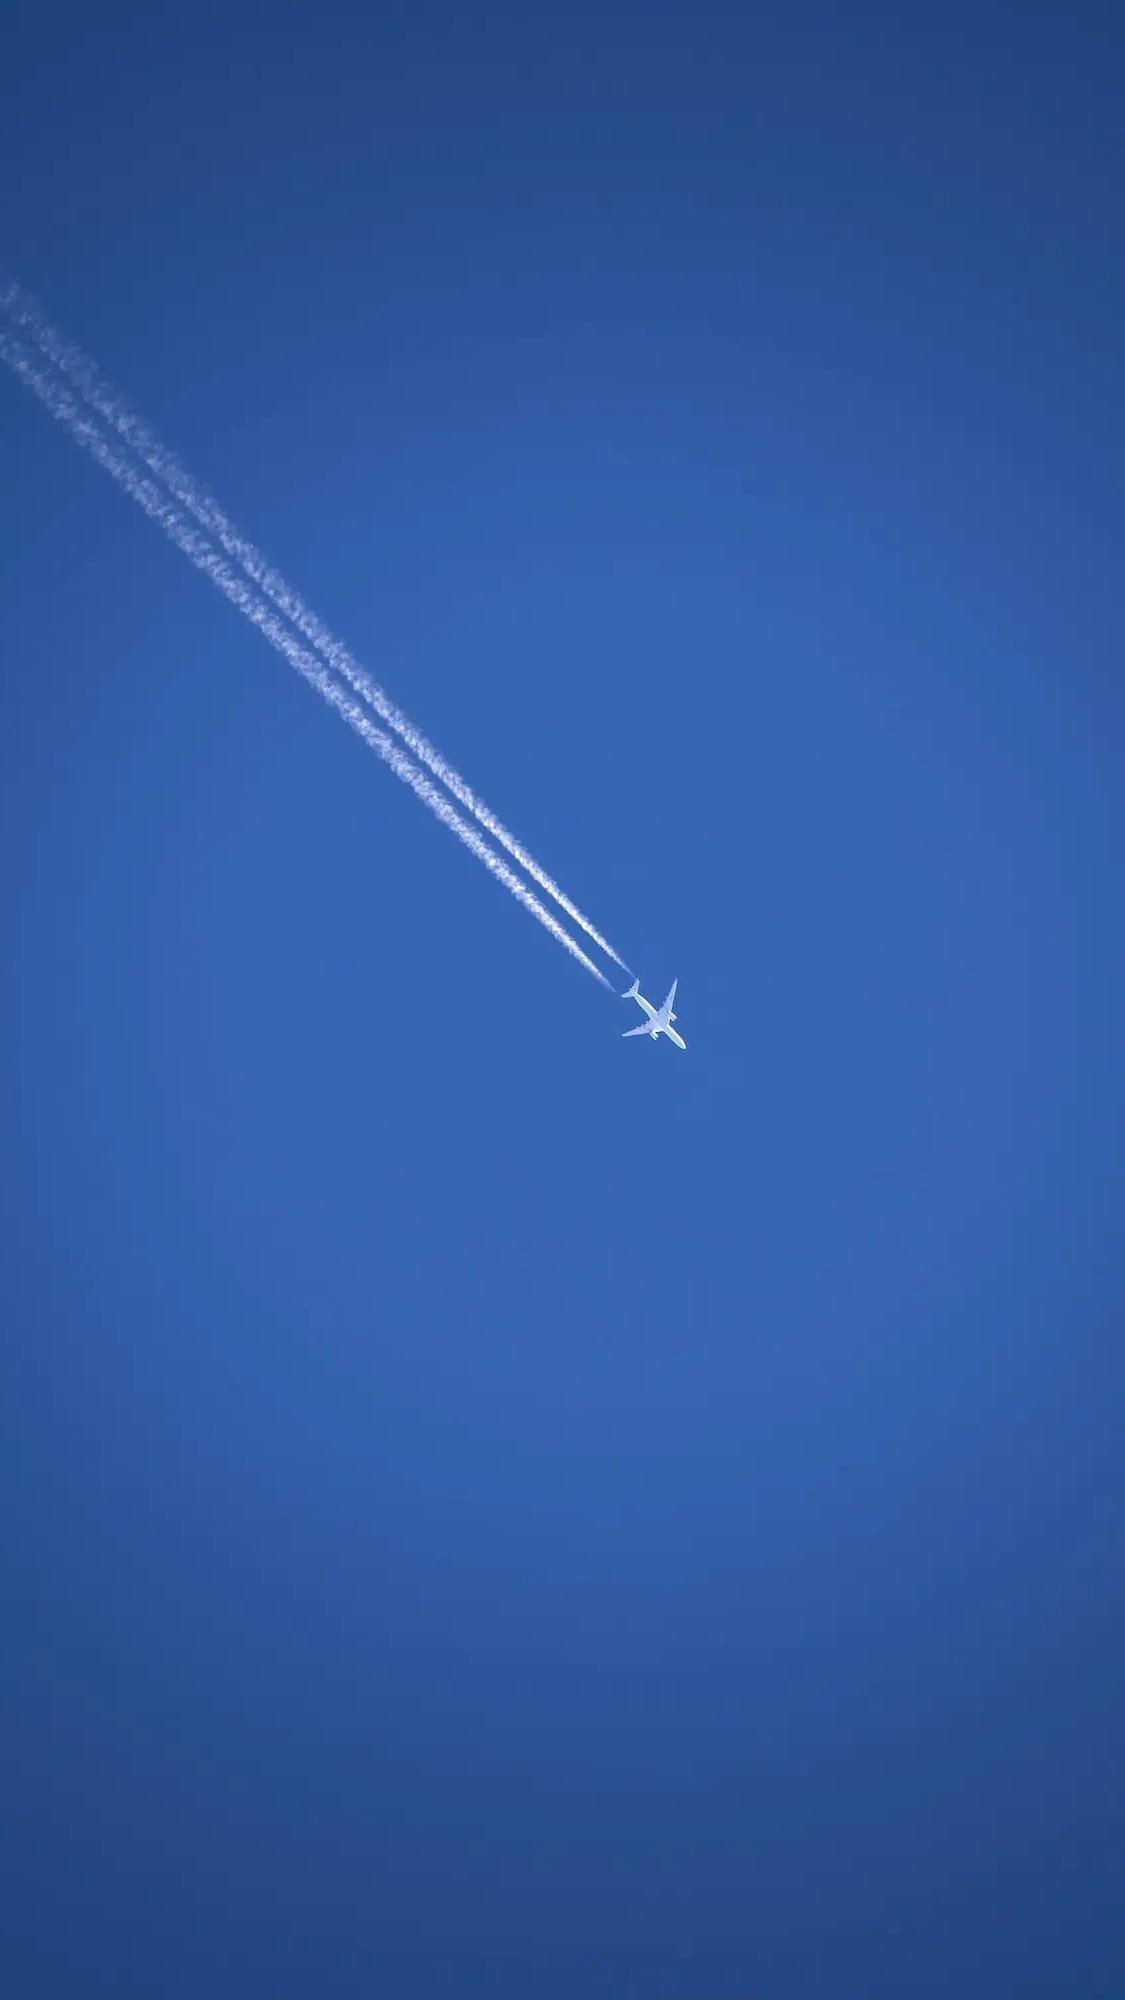Plane: (65, 413, 723, 1070)
